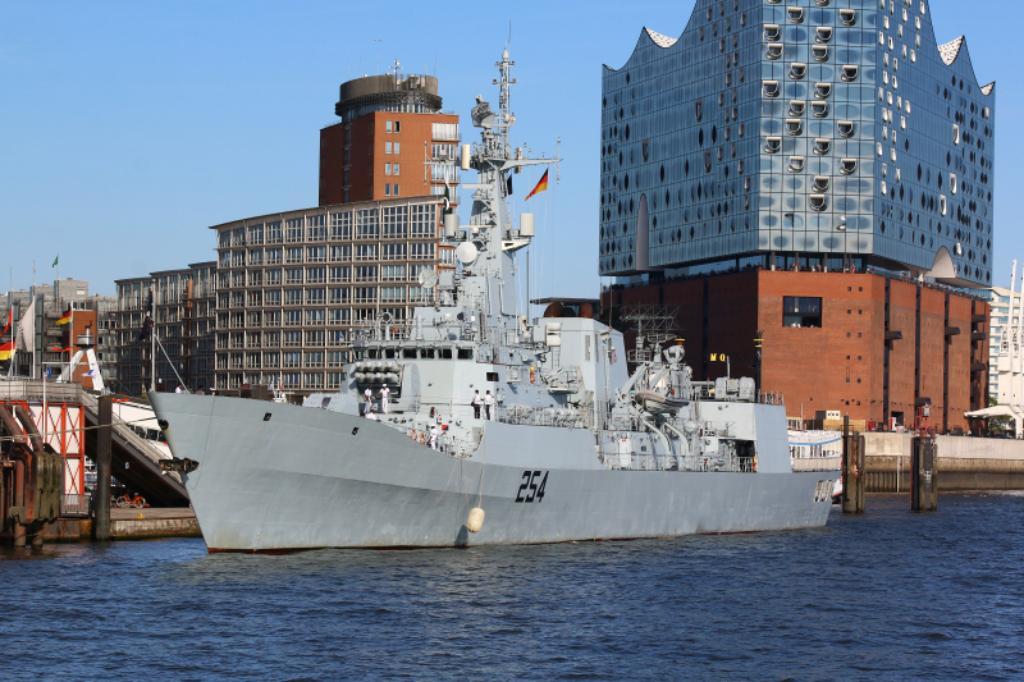Warship: (143, 40, 839, 552)
